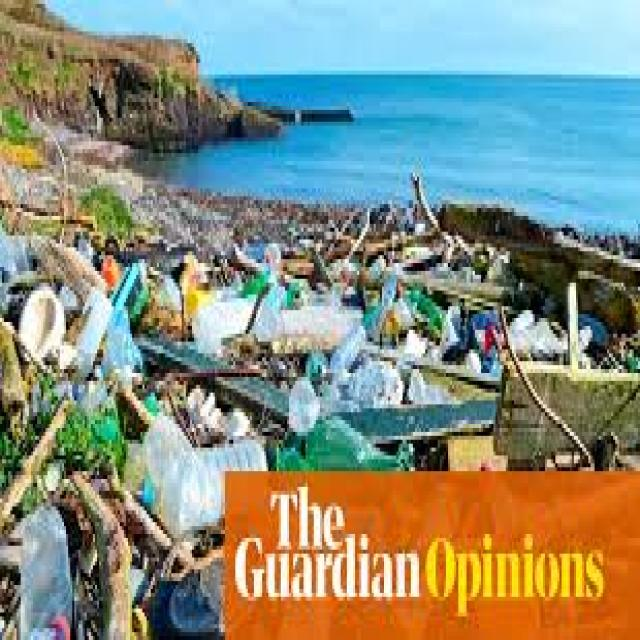plastic: (9, 209, 488, 472)
